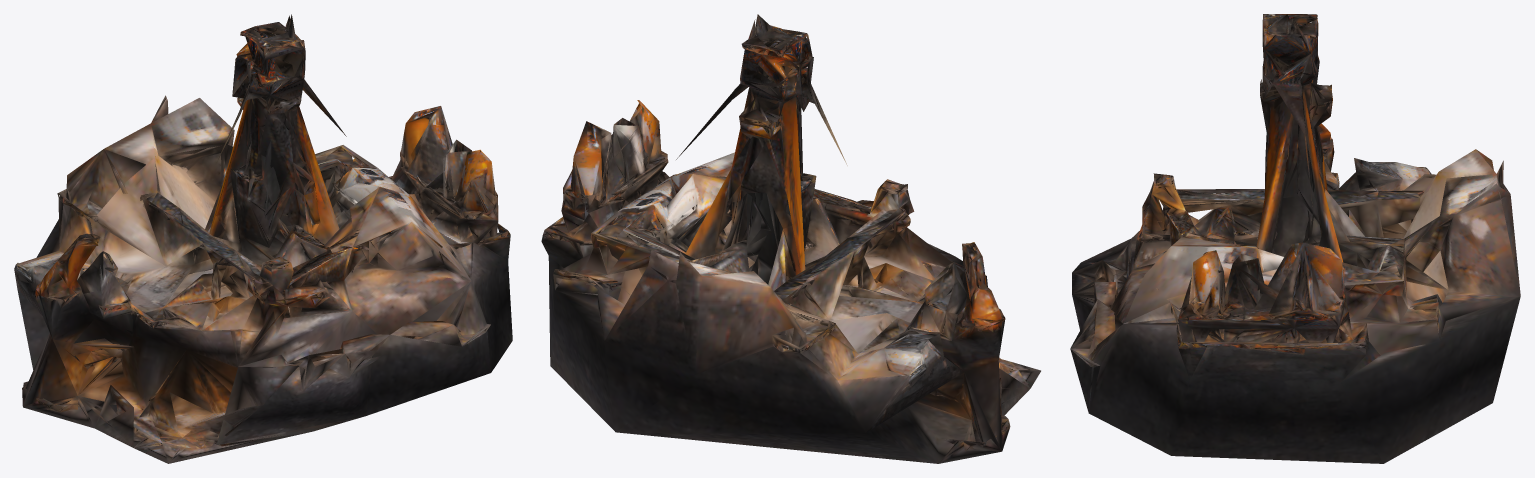
The model's file is building-deep-mine-l4.glb.
3 renders of one model, left to right at view 1: azimuth 30°, elevation 25°; view 2: azimuth 150°, elevation 25°; view 3: azimuth 270°, elevation 25°, orthographic. The views are drawn at different scales.
Parts seen in each view (by area): view 1: tripo_node_0653f0c6-72ea-400b-a746-a68f4100197f; view 2: tripo_node_0653f0c6-72ea-400b-a746-a68f4100197f; view 3: tripo_node_0653f0c6-72ea-400b-a746-a68f4100197f.
Boxes of the visible parts, x1,y1,x2,y2 form: tripo_node_0653f0c6-72ea-400b-a746-a68f4100197f: [14, 14, 512, 463]; tripo_node_0653f0c6-72ea-400b-a746-a68f4100197f: [541, 14, 1040, 463]; tripo_node_0653f0c6-72ea-400b-a746-a68f4100197f: [1070, 14, 1520, 463].
Bounding box in the file's own units: 0.98 × 0.7672 × 0.8301.
Materials: 1 (1 with a texture image).
